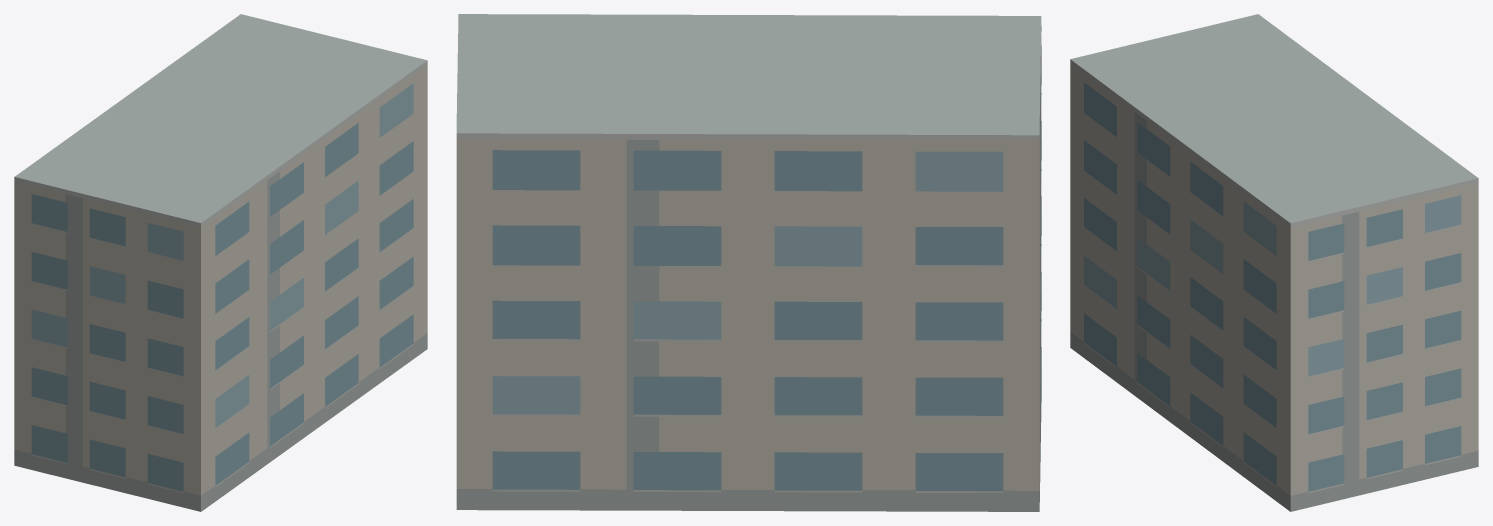
The model's file is residential-5ac1b169-d399-4b02-95d3-356be2363020.glb.
3 renders of one model, left to right at view 1: azimuth 30°, elevation 25°; view 2: azimuth 150°, elevation 25°; view 3: azimuth 270°, elevation 25°, orthographic. The views are drawn at different scales.
Parts seen in each view (by area): view 1: residential-5ac1b169-d399-4b02-95d3-356be2363020.tmp; view 2: residential-5ac1b169-d399-4b02-95d3-356be2363020.tmp; view 3: residential-5ac1b169-d399-4b02-95d3-356be2363020.tmp.
Part boxes in pixels (bbox=[...]): residential-5ac1b169-d399-4b02-95d3-356be2363020.tmp: bbox=[14, 14, 427, 511]; residential-5ac1b169-d399-4b02-95d3-356be2363020.tmp: bbox=[456, 14, 1041, 511]; residential-5ac1b169-d399-4b02-95d3-356be2363020.tmp: bbox=[1070, 14, 1478, 511].
Bounding box in the file's own units: 23.73 × 15.25 × 19.57.
